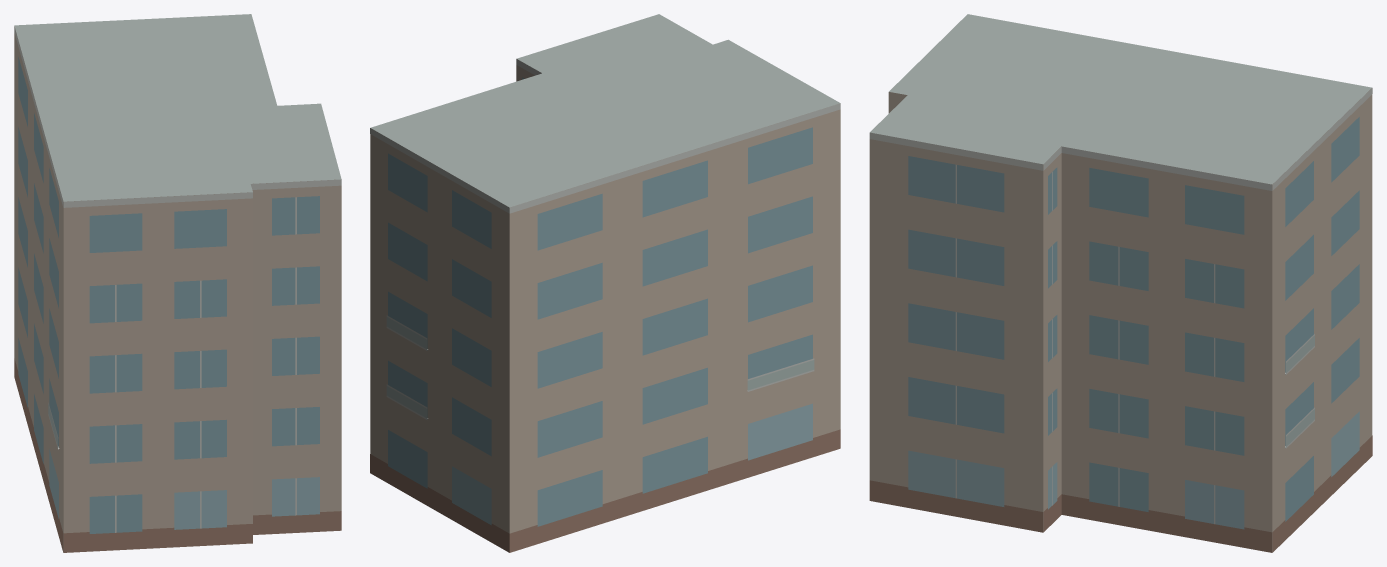
Rendered from survey-upis-32535370.glb.
3 renders of one model, left to right at view 1: azimuth 30°, elevation 25°; view 2: azimuth 150°, elevation 25°; view 3: azimuth 270°, elevation 25°, orthographic. The views are drawn at different scales.
Visible parts, largest first — view 1: survey-upis-32535370.tmp; view 2: survey-upis-32535370.tmp; view 3: survey-upis-32535370.tmp.
Boxes of the visible parts, box(x1,y1,x2,y2) form: survey-upis-32535370.tmp: box(14, 14, 341, 552); survey-upis-32535370.tmp: box(370, 14, 840, 552); survey-upis-32535370.tmp: box(869, 14, 1372, 552).
Bounding box in the file's own units: 13.61 × 13.7 × 16.96.
